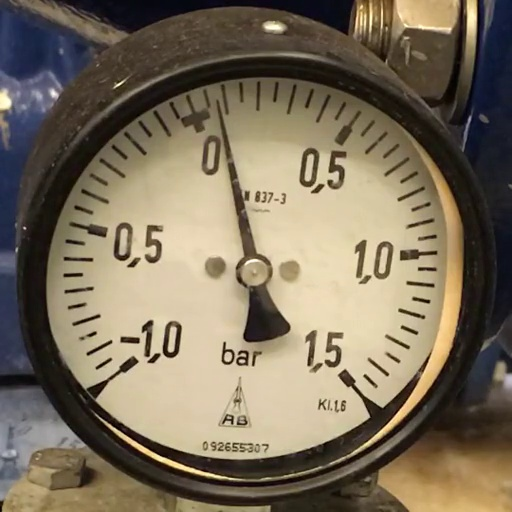base: (235, 254, 272, 286)
circle_plate: (47, 76, 462, 461)
maximum: (338, 368, 356, 388)
minimum: (119, 355, 139, 373)
number: (120, 319, 182, 363), (113, 222, 164, 268), (298, 148, 348, 194), (354, 240, 395, 286), (305, 330, 345, 372), (200, 134, 222, 177)
tip: (214, 98, 222, 106)
